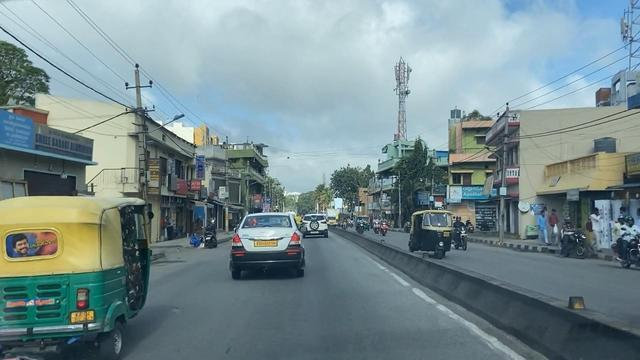LMV: (0, 197, 152, 360), (232, 215, 305, 280)
